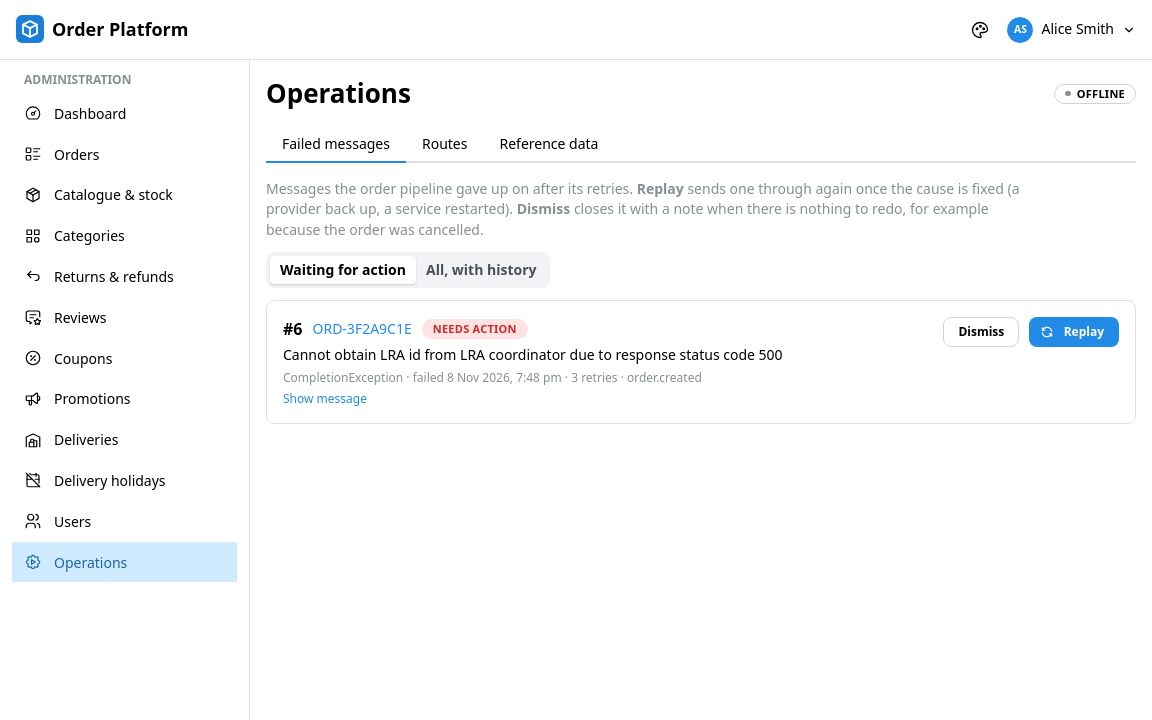
Scenario: failed messages › shows why a replay was refused
Click the button "Replay".
click(1074, 332)  # box [1029,317,1119,347]
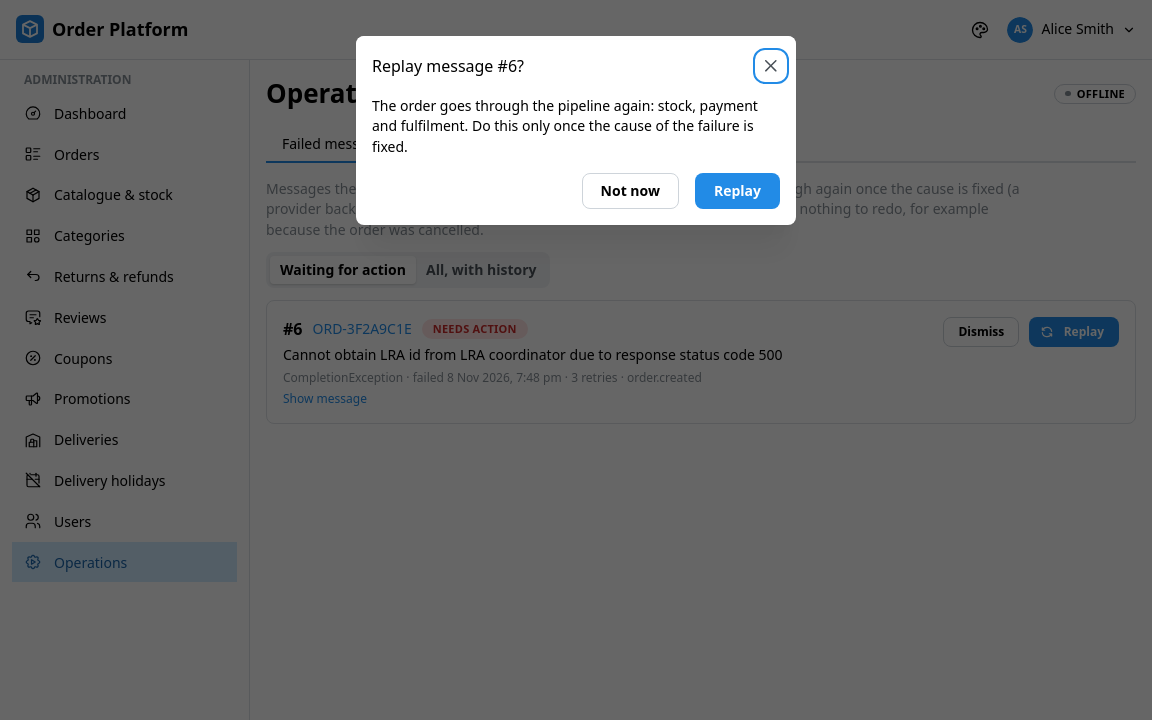
Click the button "Replay".
click(737, 191)  # box [695,173,780,209]
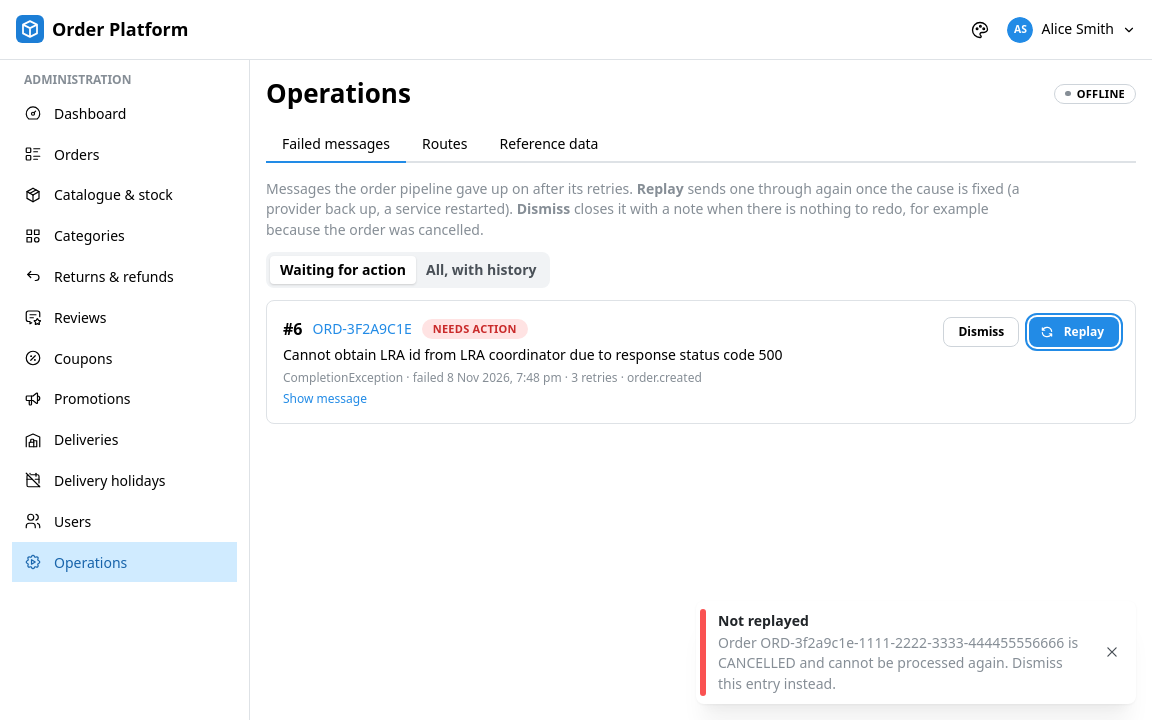
expect the text "is CANCELLED and cannot be processed again" is shown: met, box [718,633,1078,693]
